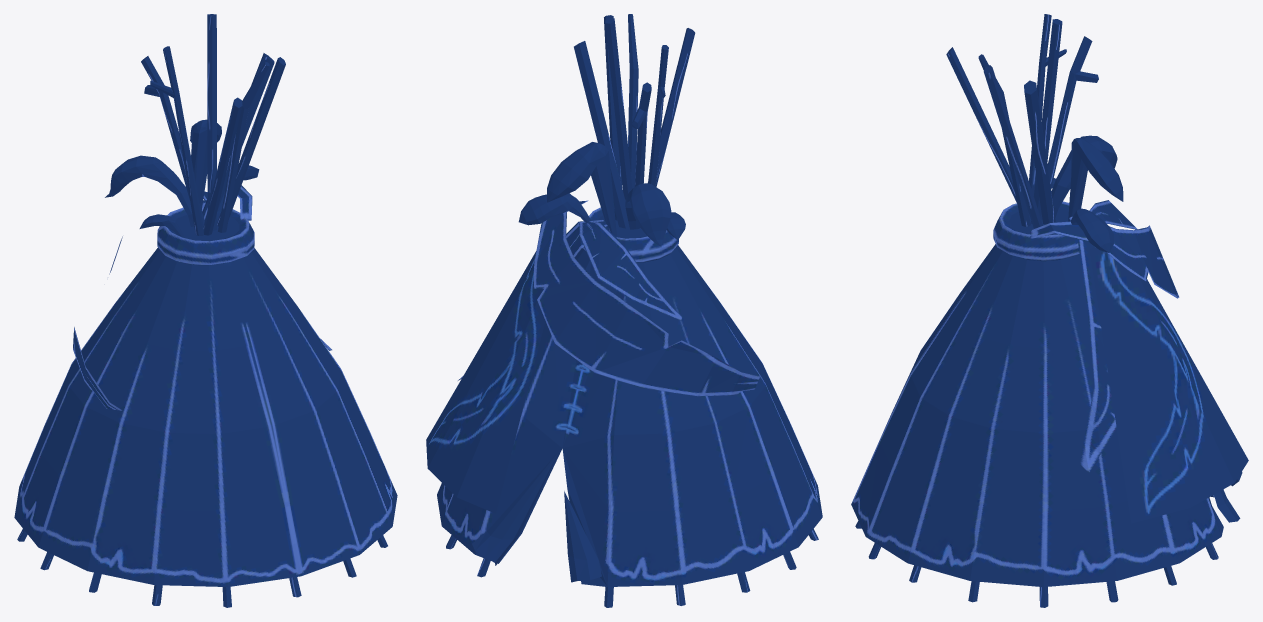
Rendered from ElfTeePee.glb.
3 renders of one model, left to right at view 1: azimuth 30°, elevation 25°; view 2: azimuth 150°, elevation 25°; view 3: azimuth 270°, elevation 25°, orthographic.
Visible parts, largest first — view 1: ElfTeepee; view 2: ElfTeepee, ElfTeepee_Alpha; view 3: ElfTeepee, ElfTeepee_Alpha.
Boxes of the visible parts, left/top/right/bottom form: ElfTeepee: left=14, top=14, right=397, bottom=607; ElfTeepee: left=437, top=14, right=822, bottom=607; ElfTeepee_Alpha: left=426, top=243, right=563, bottom=513; ElfTeepee: left=851, top=14, right=1242, bottom=607; ElfTeepee_Alpha: left=1089, top=235, right=1248, bottom=523.
Size of the model in its own units: 0.1572 by 0.2272 by 0.1597.
1 material, 1 textured.
